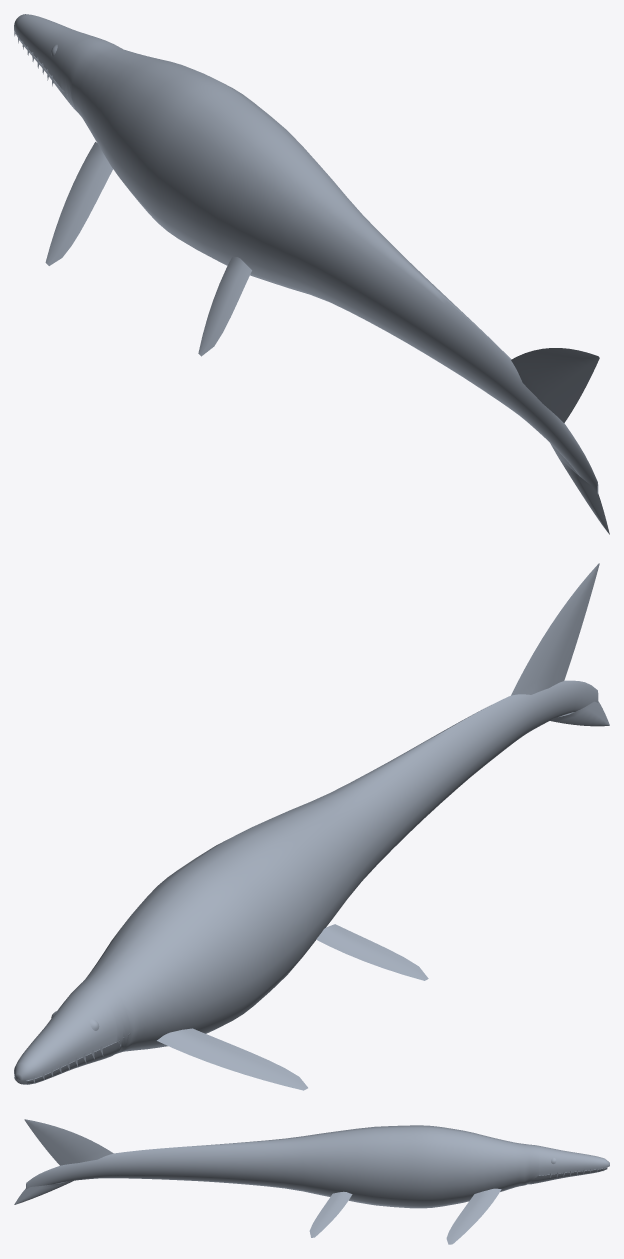
The model's file is mosasaur_lo.glb.
The picture shows the model from 3 angles, top to bottom: view 1: azimuth 30°, elevation 25°; view 2: azimuth 150°, elevation 25°; view 3: azimuth 270°, elevation 25°; orthographic projection. The views are drawn at different scales.
Parts seen in each view (by area): view 1: mosasaur_lo; view 2: mosasaur_lo; view 3: mosasaur_lo.
Part boxes in pixels (x1,y1,x2,y2): mosasaur_lo: [14, 14, 609, 534]; mosasaur_lo: [14, 563, 609, 1090]; mosasaur_lo: [14, 1119, 609, 1244].
Size of the model in its own units: 3.04 by 2.08 by 12.
